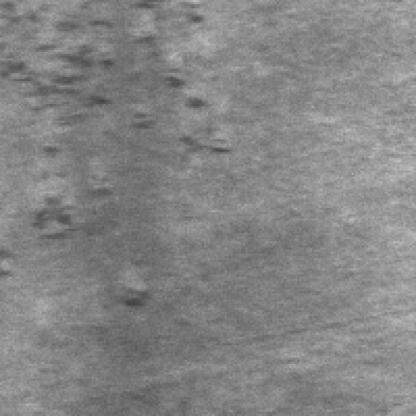rolled-in_scale: (0, 4, 210, 141), (0, 180, 144, 300)
